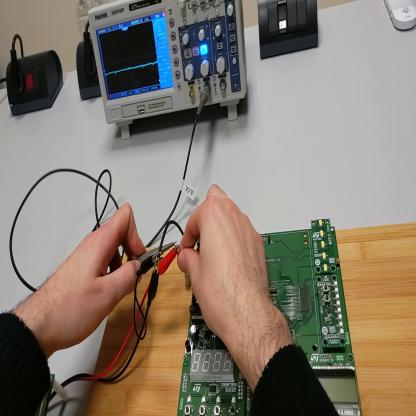hand: (38, 204, 147, 354), (179, 186, 275, 346)
low voltage board: (159, 219, 362, 415)
oscilloscope: (89, 2, 249, 140)
oscilloscope probe tip: (139, 240, 178, 266)
socket: (7, 49, 65, 118), (77, 41, 102, 102)
working area: (86, 224, 415, 414)
